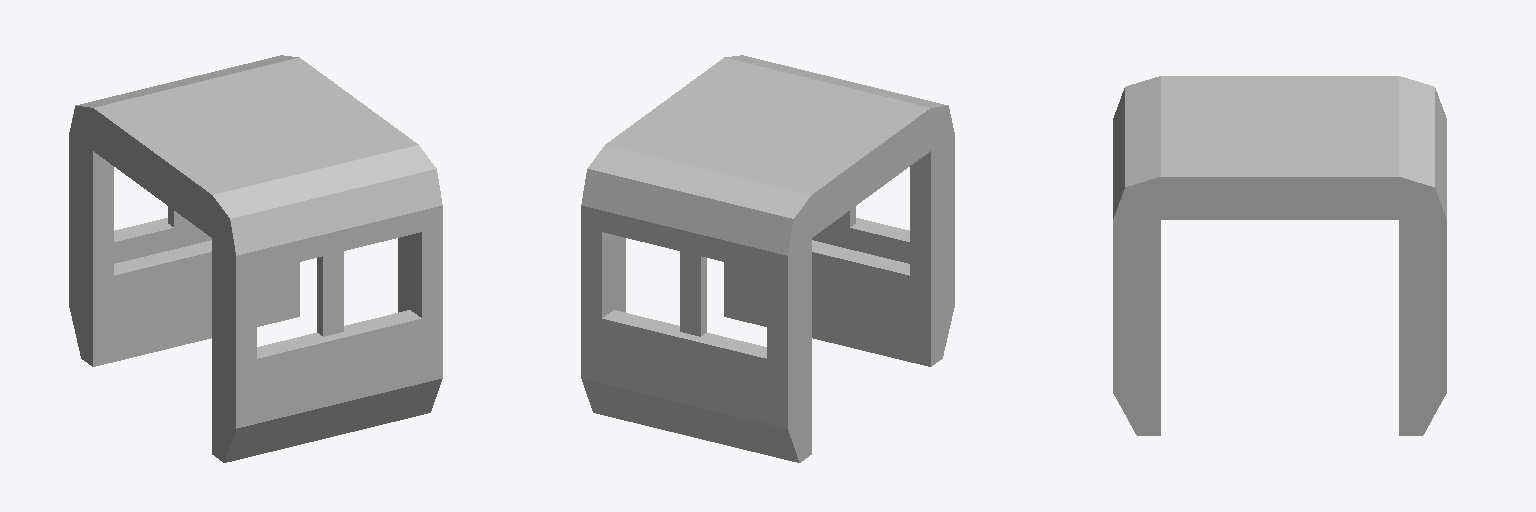
The model's file is cover-stripe-bar.obj.
The picture shows the model from 3 angles: view 1: azimuth 30°, elevation 25°; view 2: azimuth 150°, elevation 25°; view 3: azimuth 270°, elevation 25°; orthographic projection.
Parts seen in each view (by area): view 1: cover-stripe-bar; view 2: cover-stripe-bar; view 3: cover-stripe-bar.
Boxes of the visible parts, x1,y1,x2,y2 form: cover-stripe-bar: [69, 55, 442, 462]; cover-stripe-bar: [581, 55, 954, 462]; cover-stripe-bar: [1113, 76, 1446, 435].
Size of the model in its own units: 1 by 1.2 by 1.4.